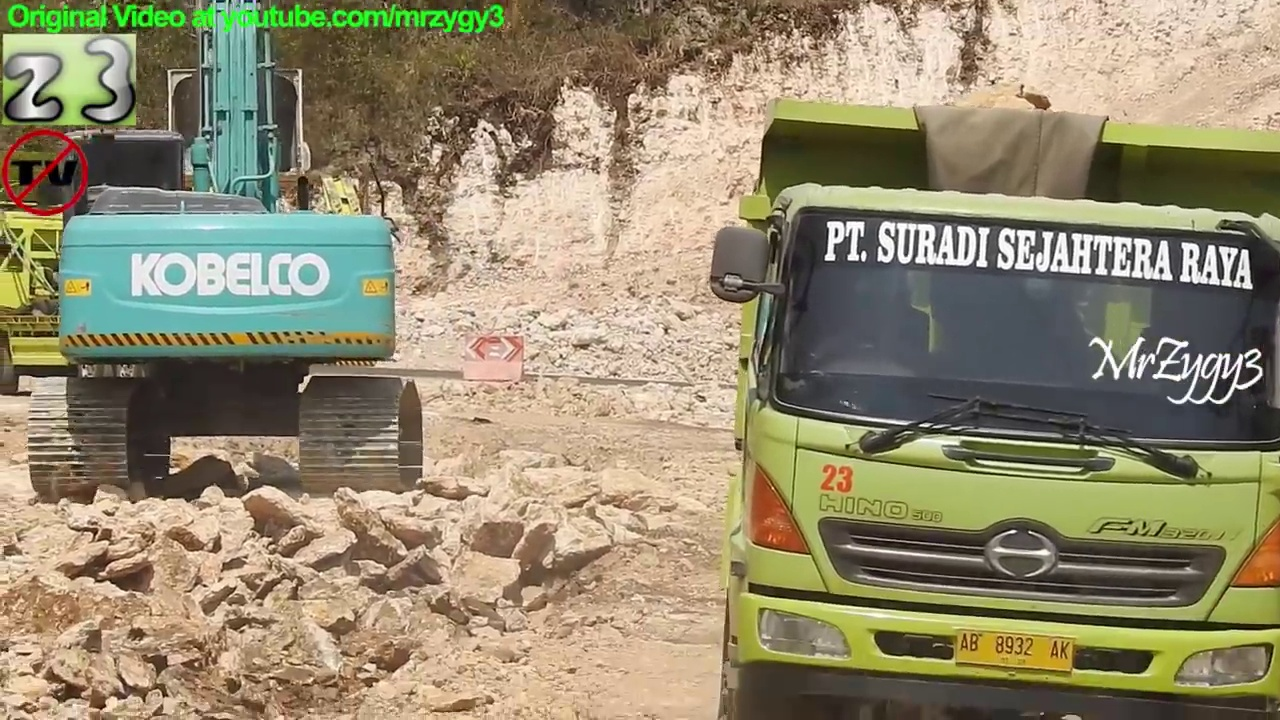excavator: (25, 1, 436, 500)
truck: (703, 92, 1280, 720), (1, 173, 393, 406)
